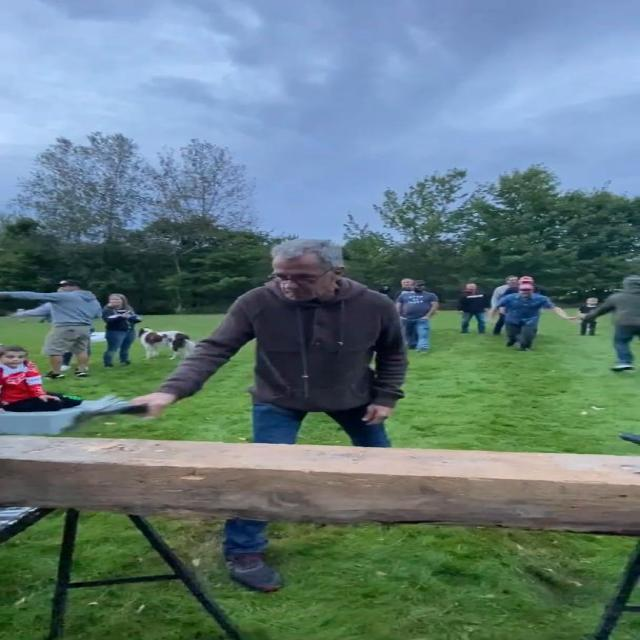hammer: (61, 394, 148, 434)
